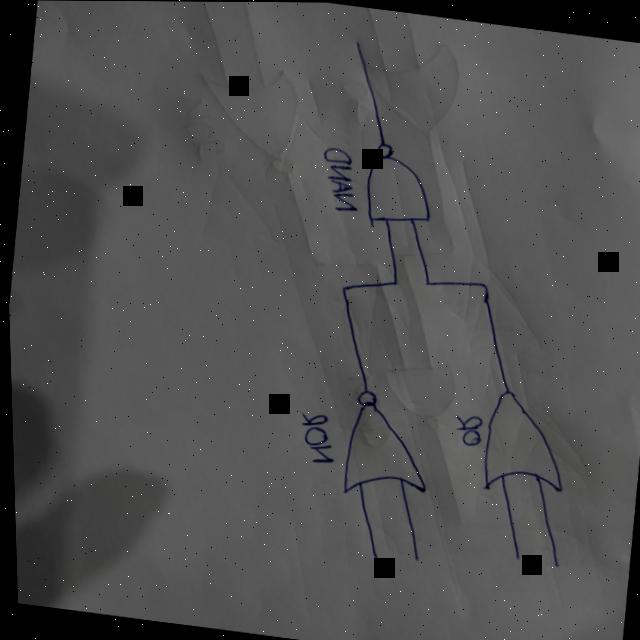junction: (475, 280, 490, 293), (387, 276, 402, 288), (336, 281, 351, 293), (420, 278, 433, 287)
terminal: (364, 548, 379, 562), (351, 38, 366, 50), (546, 557, 561, 569), (407, 552, 420, 563), (509, 551, 520, 561)
text: (314, 143, 365, 215), (293, 409, 338, 463), (450, 410, 485, 447)
